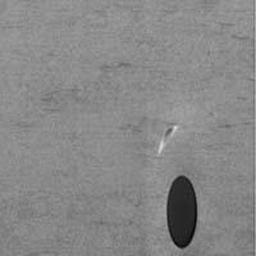Punching: (166, 173, 198, 250)
